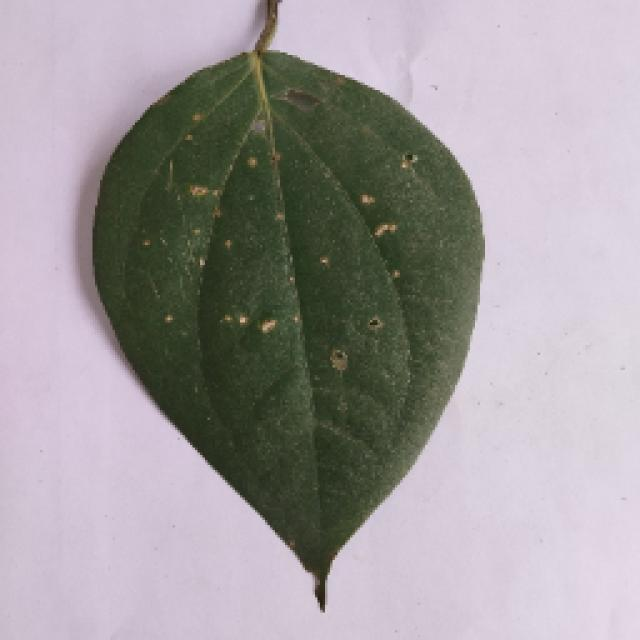pollu-disease: (80, 18, 490, 610)
